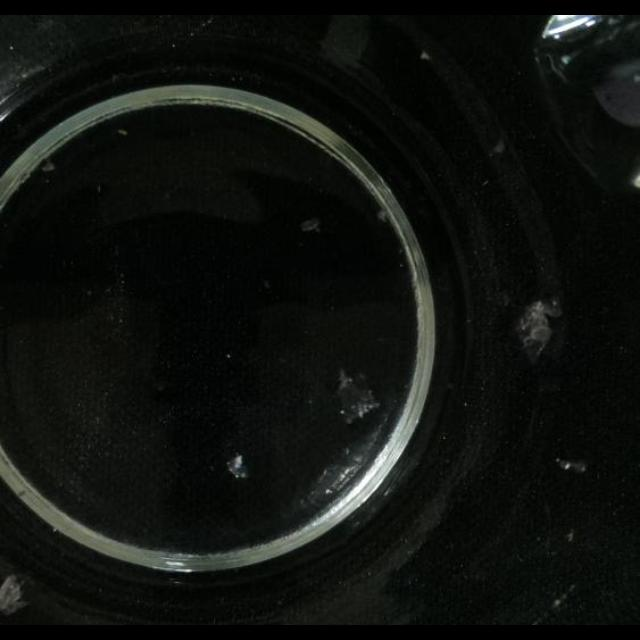Fibre: (516, 300, 558, 364), (334, 367, 382, 423), (0, 574, 30, 616), (226, 452, 250, 480), (557, 457, 587, 473), (300, 218, 320, 232), (491, 139, 505, 155), (376, 208, 389, 224), (41, 160, 55, 172)
microbeads: (553, 597, 563, 609), (566, 529, 574, 543)
